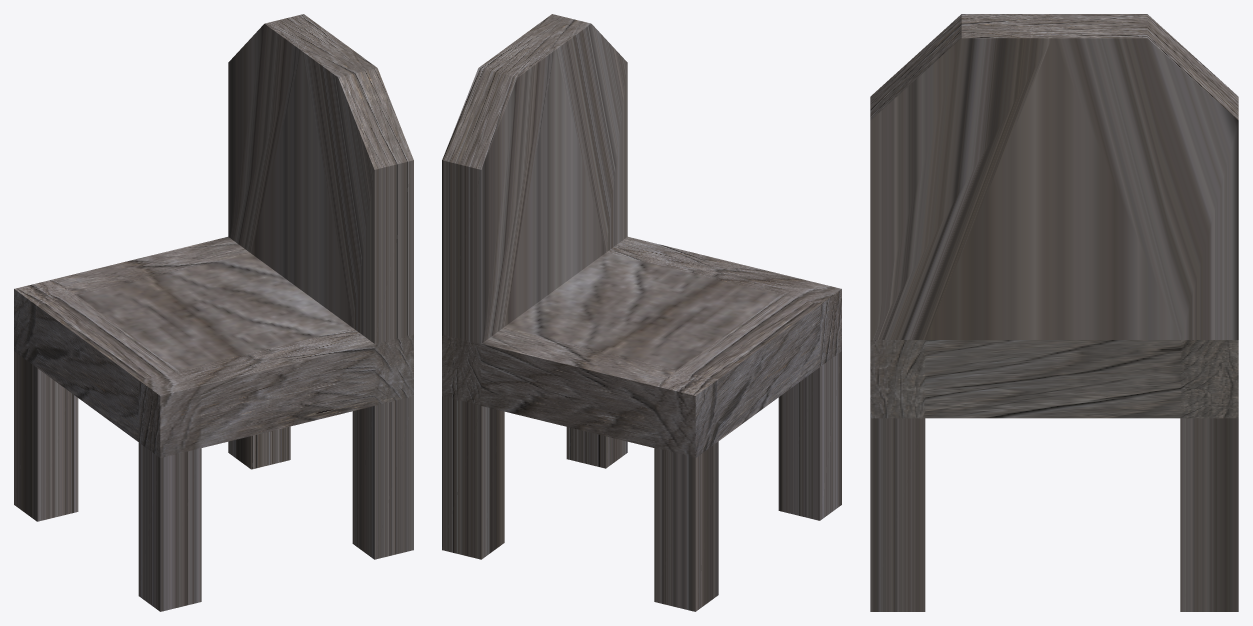
Rendered from Chair.fbx.
The picture shows the model from 3 angles, left to right: view 1: azimuth 30°, elevation 25°; view 2: azimuth 150°, elevation 25°; view 3: azimuth 270°, elevation 25°; orthographic projection. The views are drawn at different scales.
Visible parts, largest first — view 1: pCube1; view 2: pCube1; view 3: pCube1.
Boxes of the visible parts, bbox=[...] form: pCube1: bbox=[14, 14, 413, 611]; pCube1: bbox=[442, 14, 841, 611]; pCube1: bbox=[870, 14, 1238, 611].
Bounding box in the file's own units: 1 × 1.72 × 1.
Materials: 1 (1 with a texture image).
